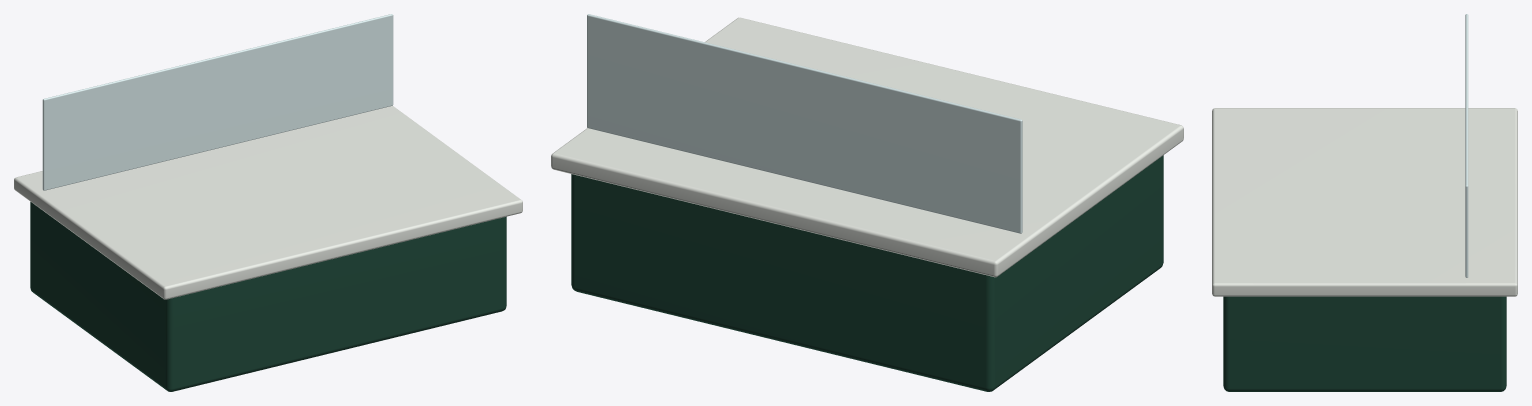
The model's file is SM_EG_BakeryIsland_874a3116bf.fbx.
3 views of the same model, side by side, from view 1: azimuth 30°, elevation 25°; view 2: azimuth 150°, elevation 25°; view 3: azimuth 270°, elevation 25° (orthographic). The views are drawn at different scales.
Visible parts, largest first — view 1: SM_EG_BakeryIsland_874a3116bf; view 2: SM_EG_BakeryIsland_874a3116bf; view 3: SM_EG_BakeryIsland_874a3116bf.
Boxes of the visible parts, left/top/right/bottom form: SM_EG_BakeryIsland_874a3116bf: left=14, top=14, right=522, bottom=391; SM_EG_BakeryIsland_874a3116bf: left=551, top=14, right=1183, bottom=391; SM_EG_BakeryIsland_874a3116bf: left=1212, top=14, right=1517, bottom=391.
Bounding box in the file's own units: 370 × 270 × 205.
